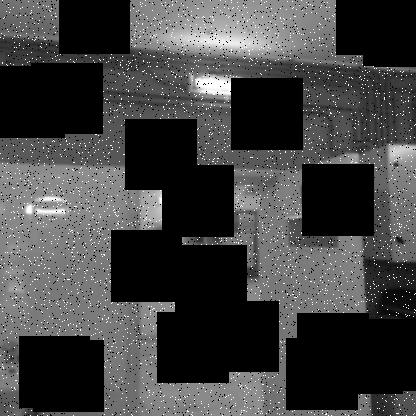Porte: (108, 151, 375, 416)
